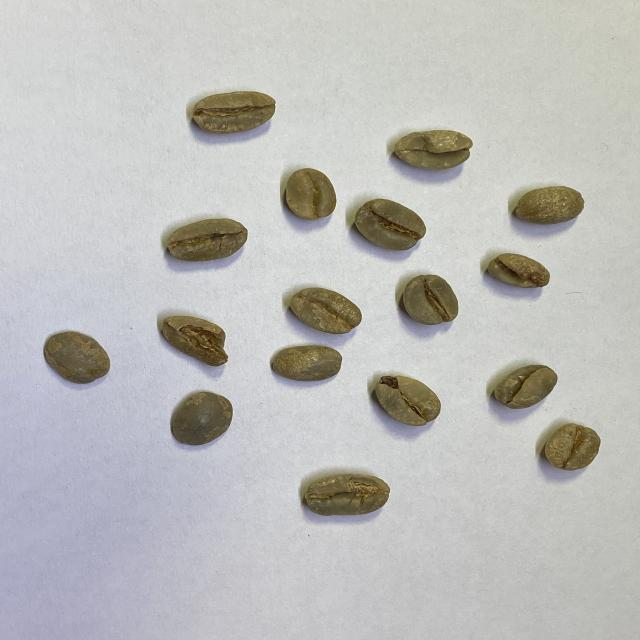bad: (373, 373, 442, 428), (302, 474, 390, 516), (393, 127, 473, 173), (160, 316, 230, 368), (486, 252, 550, 290)
good: (190, 90, 277, 136), (161, 218, 249, 263), (354, 197, 426, 251), (42, 331, 112, 386), (170, 390, 233, 448), (287, 287, 361, 333), (512, 186, 588, 226), (494, 363, 558, 409), (402, 273, 459, 324), (284, 167, 337, 220), (544, 425, 602, 471), (270, 345, 343, 381)
